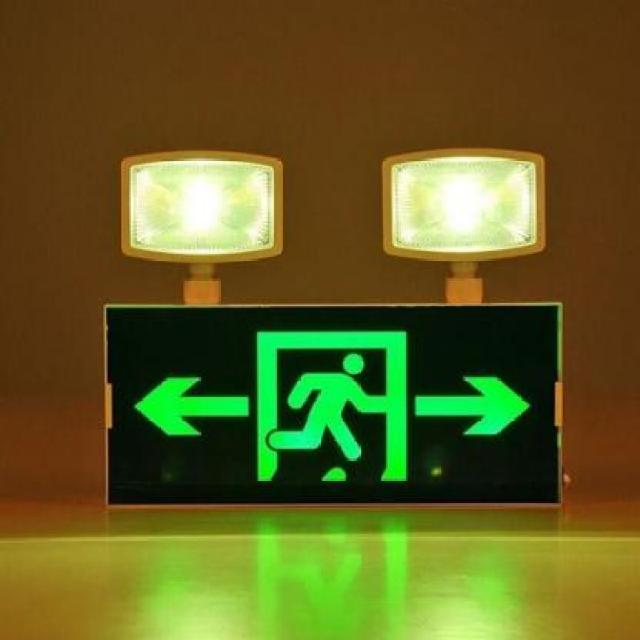exit_sign: (99, 305, 566, 513)
